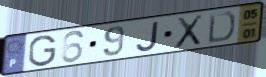6: (60, 29, 86, 65)
9: (101, 25, 126, 58)
D: (206, 10, 237, 45)
G: (27, 34, 58, 68)
J: (135, 19, 162, 53)
X: (173, 13, 205, 51)
